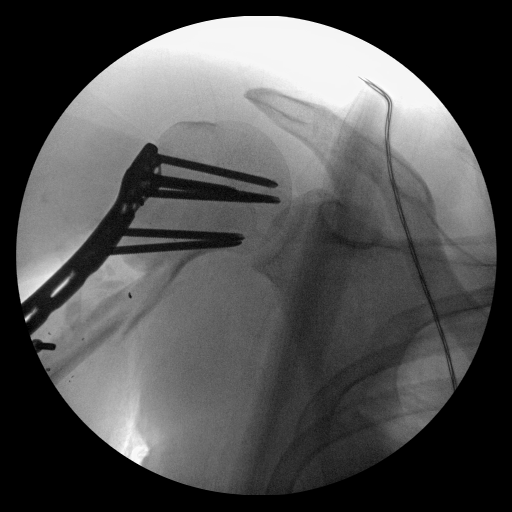implant: (85, 143, 285, 260)
